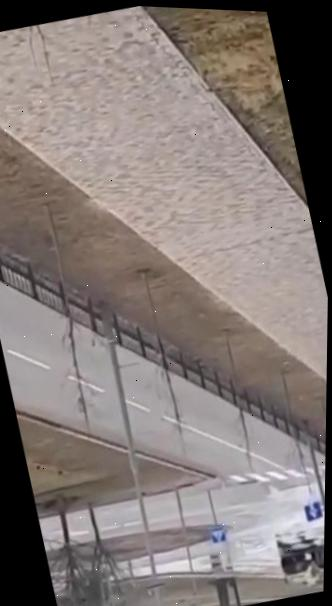tank: (274, 540, 324, 592)
